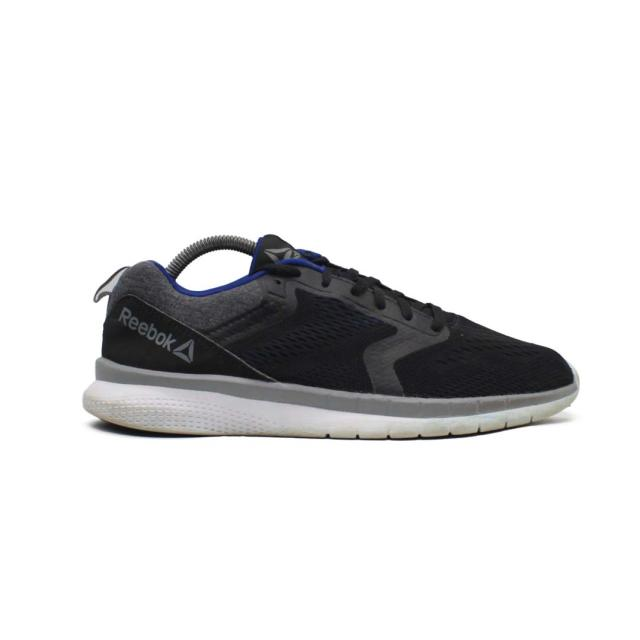heel: (98, 265, 158, 362)
midsole: (83, 354, 575, 440)
uppersole: (131, 230, 568, 397)
